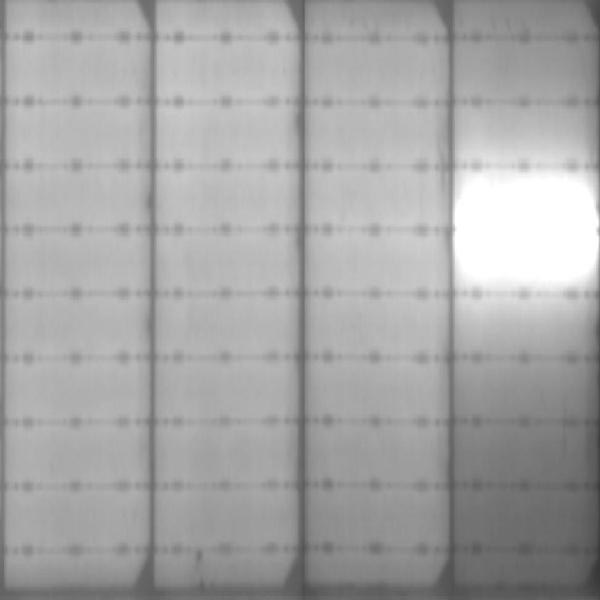hot_spot: (463, 186, 585, 285)
